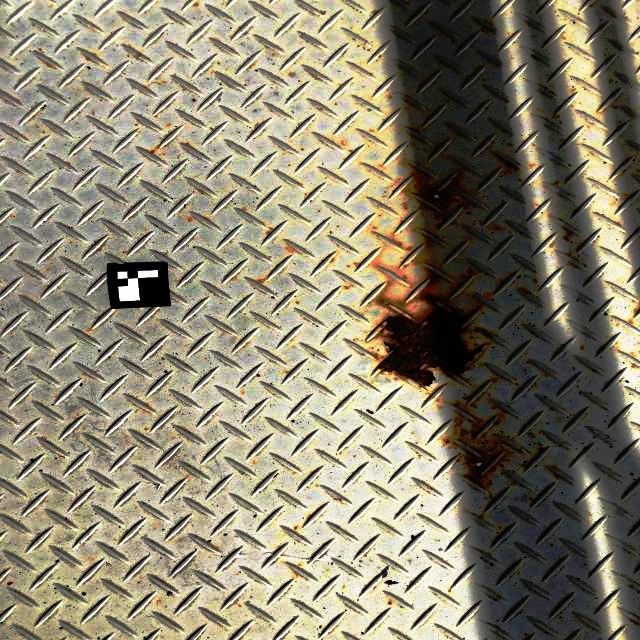Corrosion: (371, 275, 491, 390), (441, 413, 514, 490), (401, 161, 470, 227), (396, 246, 432, 282), (389, 239, 414, 252), (502, 158, 518, 173), (452, 401, 469, 414), (469, 398, 479, 407), (517, 288, 531, 294), (45, 61, 55, 68), (553, 471, 560, 479), (88, 52, 97, 58), (84, 55, 92, 61), (495, 226, 504, 231), (402, 203, 408, 210), (562, 235, 569, 241), (460, 274, 467, 279), (468, 268, 473, 274), (538, 447, 544, 452), (137, 52, 142, 57), (193, 2, 199, 6), (502, 409, 507, 413), (492, 405, 497, 409), (580, 345, 584, 350), (492, 378, 496, 382), (430, 208, 435, 211), (121, 251, 128, 253), (98, 247, 101, 251)
